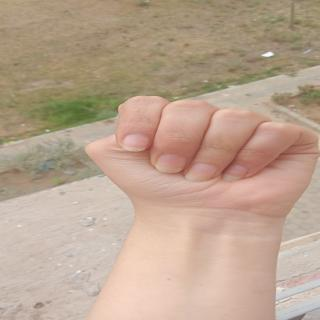SAD: (81, 85, 320, 207)
